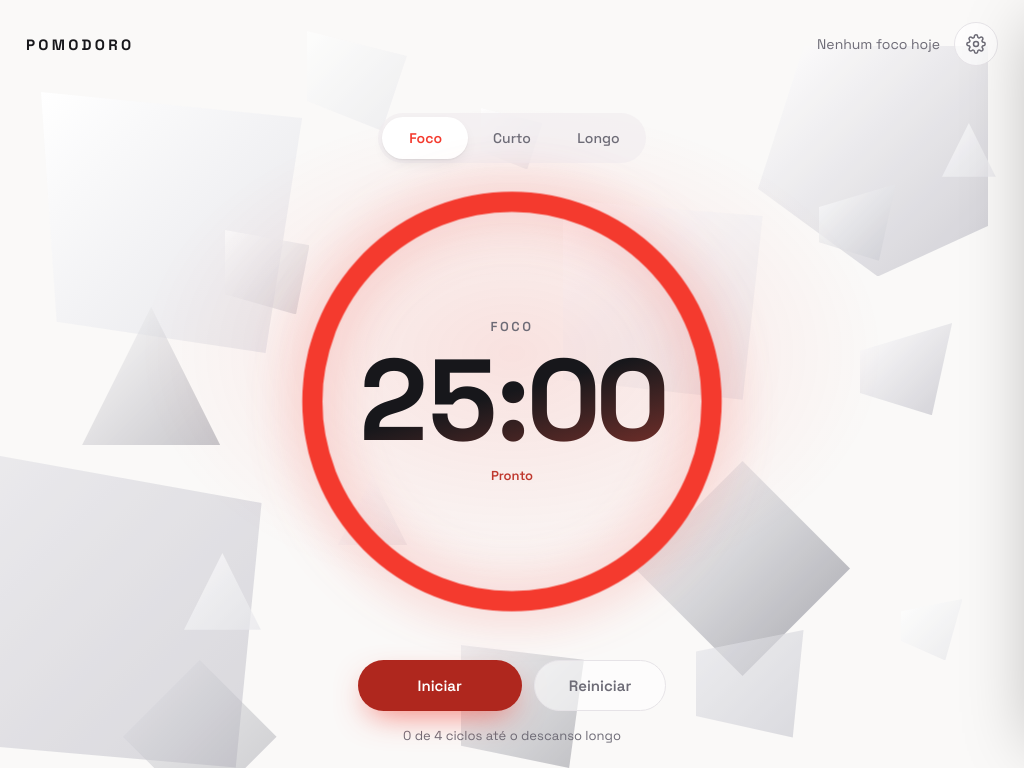
Scenario: App › saves custom settings and applies them to the timer
Click the button named "Abrir configurações e histórico". click: (976, 44)
box: [954,22,998,66]
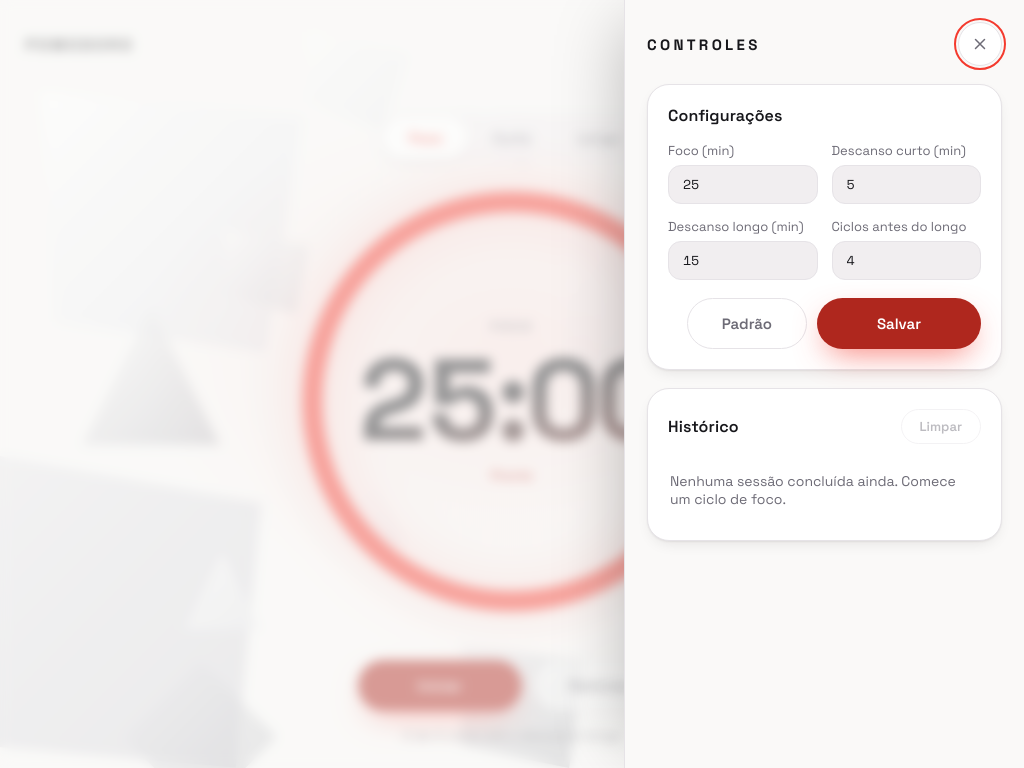
Replace the text in the number field labelled "Foco (min)" with "40". click: (743, 184)
box: [668,165,818,204]
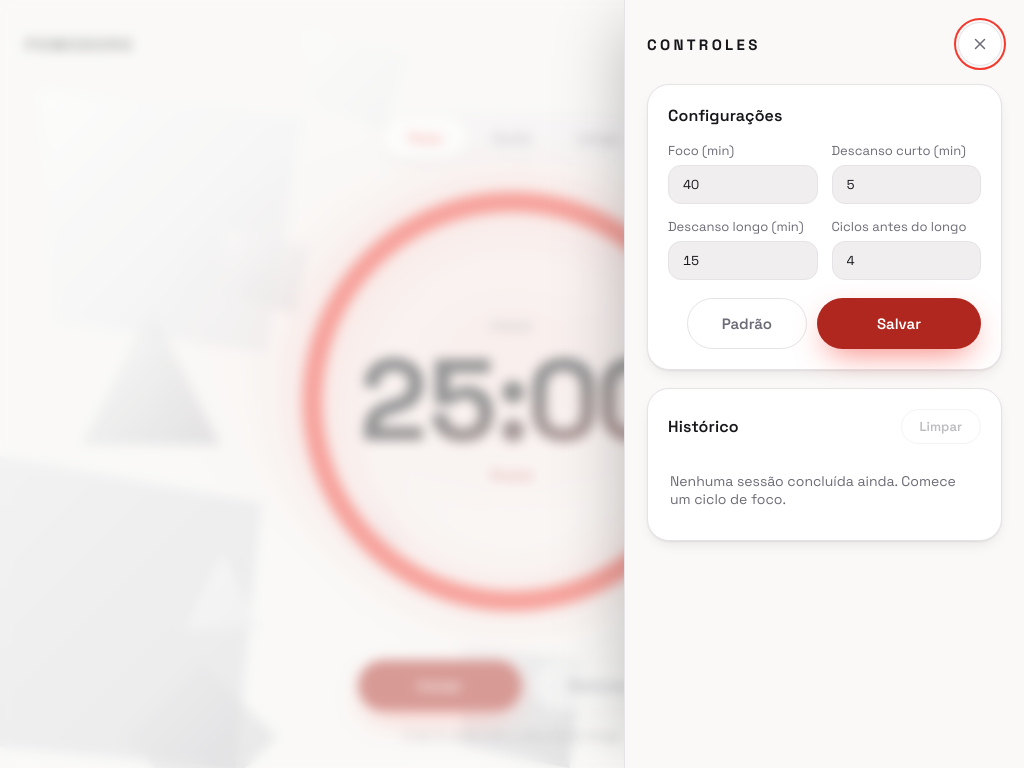
Click the button "Salvar". click: (899, 324)
box: [817,298,981,349]
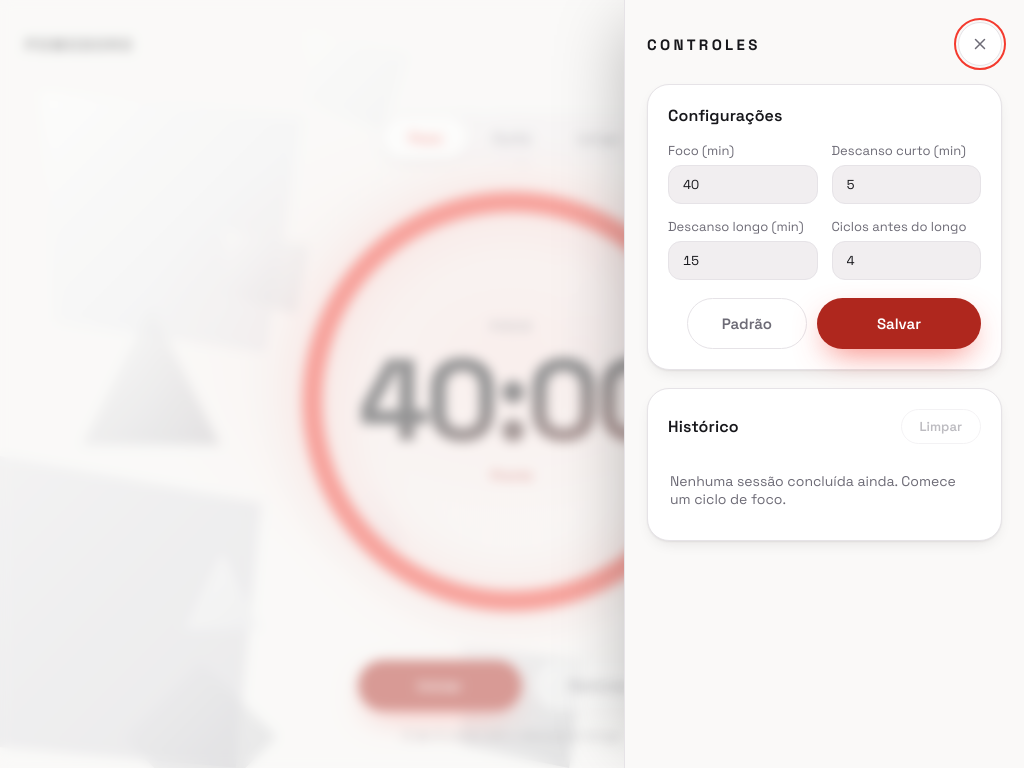
Check: the text "40:00" is shown, box [358,343,666,459]
